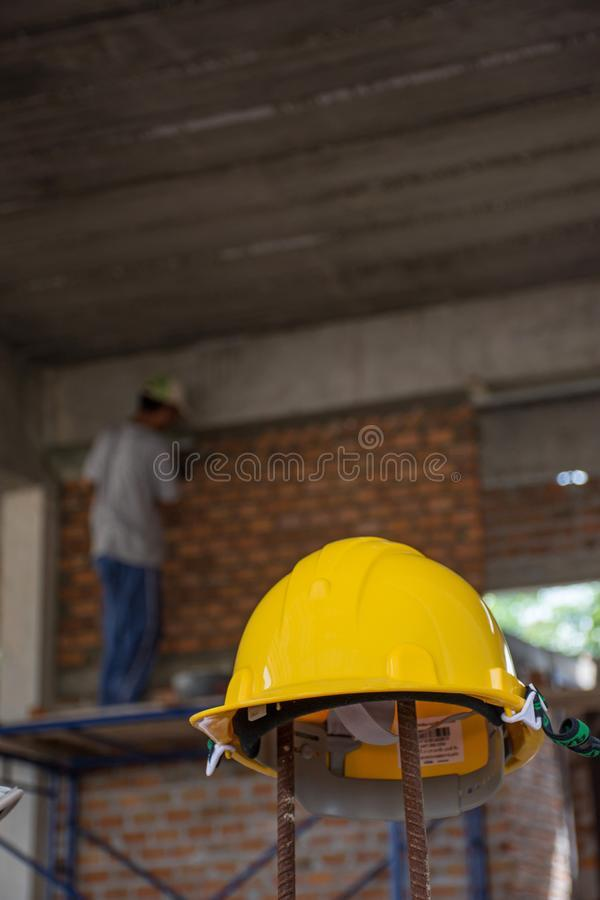helmet: (192, 540, 552, 787)
